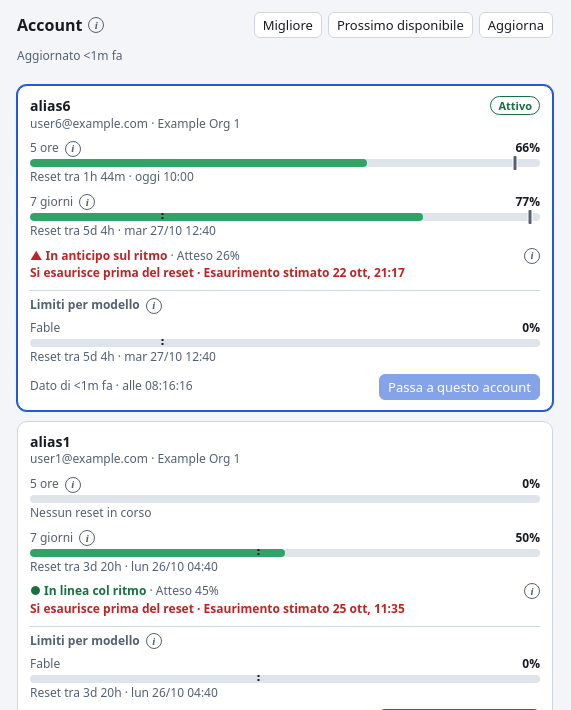
Scenario: Dashboard: cambio account › cambio rapido «Migliore»
This screenshot has width=571, height=710.
Click the button "Migliore" at (288, 25), box [254,12,322,38]
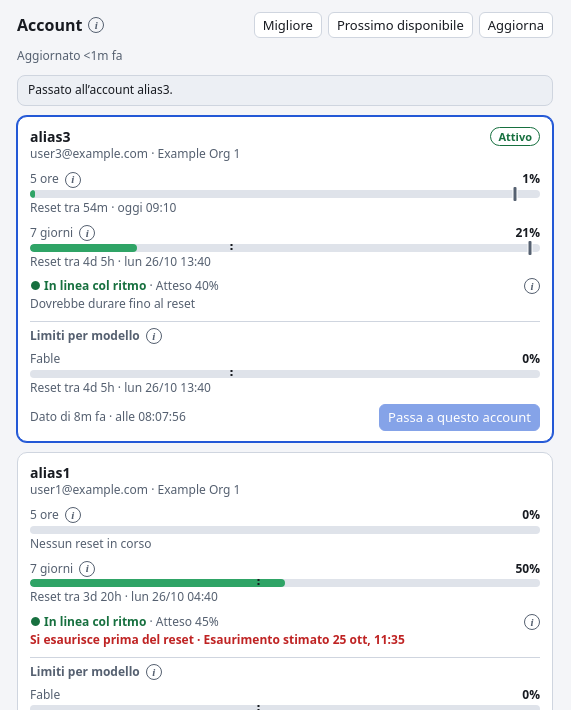
Result: the text "Passato all’account alias3." is shown at [17,75,553,106]
